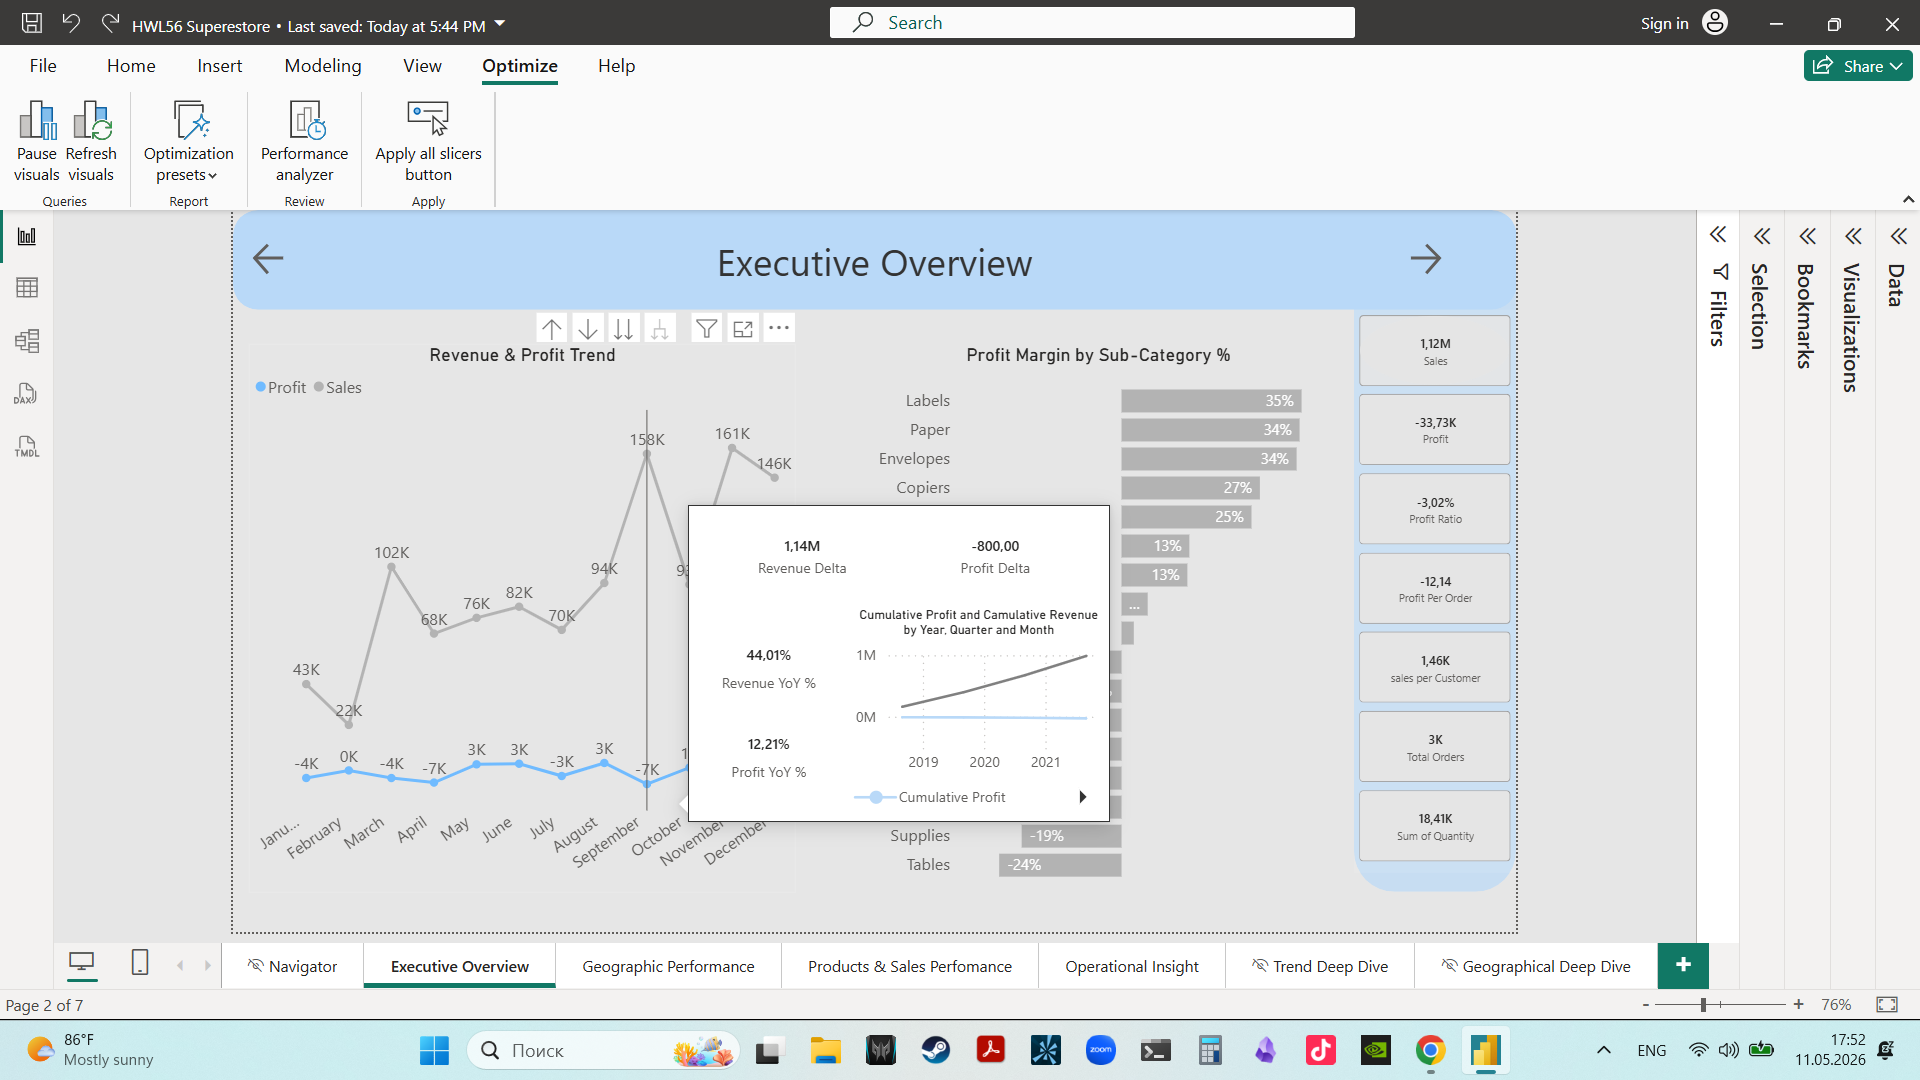

Layout of this report page (visuals, bound fields, positions):
{"tool":"powerbi","page":{"name":"Executive Overview","canvas":[1280,720],"ordinal":1},"visuals":[{"type":"shape","box":[1118.2,29.3,161.7,651.1],"z":0},{"type":"shape","box":[0,0,1280.1,99.5],"z":1000},{"type":"cardVisual","fields":{"Data":["Measure.Sales","Measure.Profit","Measure.Profit Ratio","Measure.Profit per Order","Measure.sales per Customer","Measure.Total Orders","Sum(Sample - Superstore_Orders.Quantity)"]},"box":[1118.2,99,161.7,561.9],"z":2000},{"type":"lineChart","title":"Revenue & Profit Trend","fields":{"Category":["Calendar.Year-Month.Variation.Date Hierarchy.Year","Calendar.Year-Month.Variation.Date Hierarchy.Quarter","Calendar.Year-Month.Variation.Date Hierarchy.Month","Calendar.Year-Month.Variation.Date Hierarchy.Day"],"Y":["Measure.Profit","Measure.Sales"]},"box":[15.4,133.1,546.1,547.8],"z":3000},{"type":"clusteredBarChart","title":"Profit Margin by Sub-Category %","fields":{"Category":["Sample - Superstore_Orders.Sub-Category"],"Y":["Measure.Profit Margin %"]},"box":[621.2,133.1,483,547.8],"z":4000},{"type":"actionButton","box":[15.7,28.8,99.5,40.6],"z":5000},{"type":"actionButton","box":[1168.8,28.8,99.5,40.6],"z":6000}]}

Visuals, with their boxes on the page's 1280x720 design canvas (x1, y1, x2, y2). These are canvas units, not pixel positions in the 1920x1080 screenshot, which may show the page scaled, cropped or inside an application window:
shape: region(1118, 29, 1280, 680)
shape: region(0, 0, 1280, 100)
cardVisual - Measure.Sales x Measure.Profit: region(1118, 99, 1280, 661)
"Revenue & Profit Trend" lineChart: region(15, 133, 562, 681)
"Profit Margin by Sub-Category %" clusteredBarChart: region(621, 133, 1104, 681)
actionButton: region(16, 29, 115, 69)
actionButton: region(1169, 29, 1268, 69)
